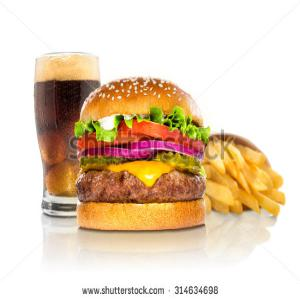cheeseburger: (74, 75, 212, 237)
fries: (209, 139, 282, 222)
